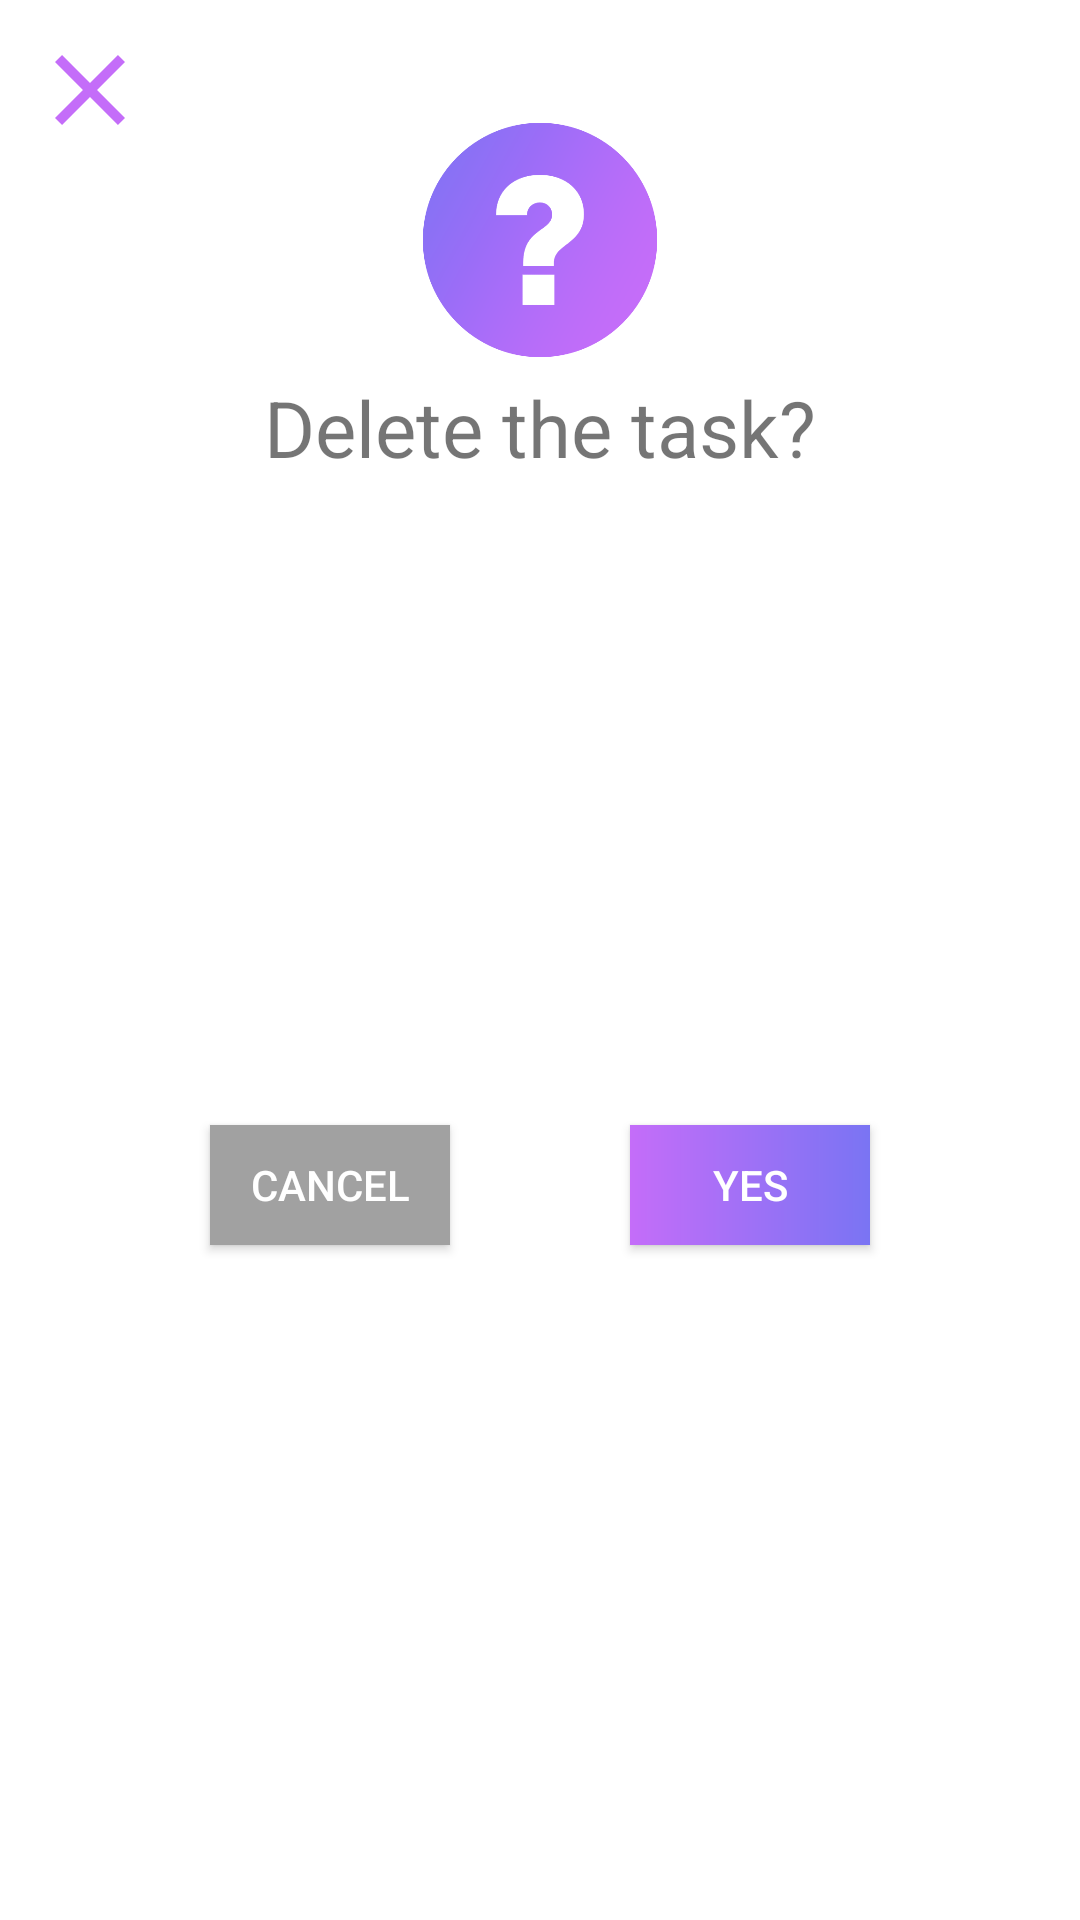

Screen size 1080x1920. Icon name, then its box in pixels as (x1, y1, x2, y2):
close: (55, 55, 125, 125)
question mark: (423, 123, 657, 357)
